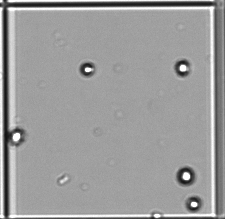Living Cell: (177, 167, 195, 185), (8, 128, 24, 146), (79, 61, 95, 77), (175, 59, 190, 76), (187, 196, 201, 211)
